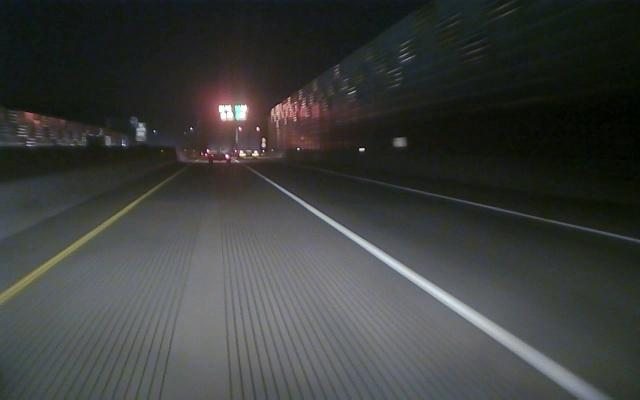lane: (261, 176, 611, 398), (341, 174, 640, 243), (3, 188, 155, 303)
